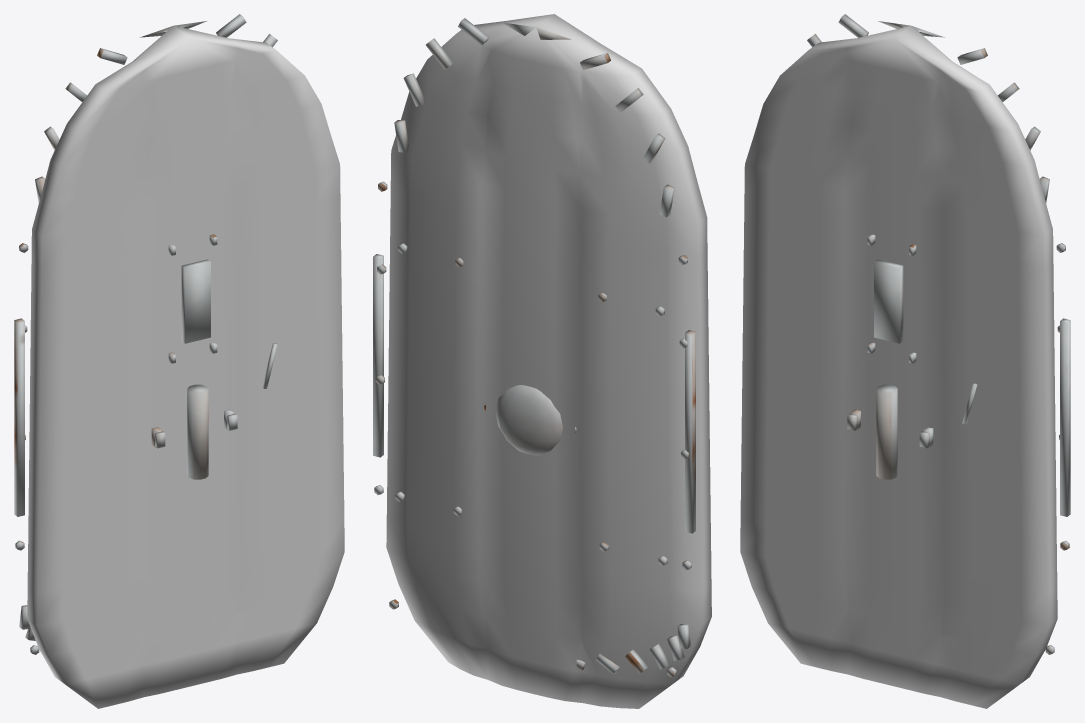
Rendered from tower_shield.fbx.
3 renders of one model, left to right at view 1: azimuth 30°, elevation 25°; view 2: azimuth 150°, elevation 25°; view 3: azimuth 330°, elevation 25°, orthographic. The views are drawn at different scales.
Visible parts, largest first — view 1: tower_shield; view 2: tower_shield; view 3: tower_shield.
Boxes of the visible parts, x1,y1,x2,y2 form: tower_shield: (14, 14, 344, 708); tower_shield: (373, 14, 711, 708); tower_shield: (740, 14, 1070, 708).
Bounding box in the file's own units: 0.604 × 1.2 × 0.1431.
2 materials, 1 textured.
